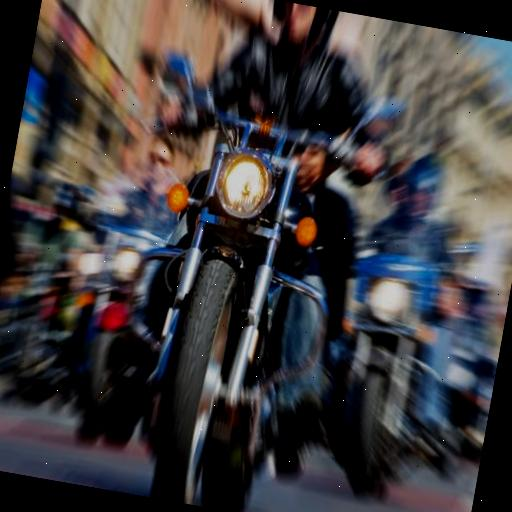helmet: (130, 0, 353, 493)
